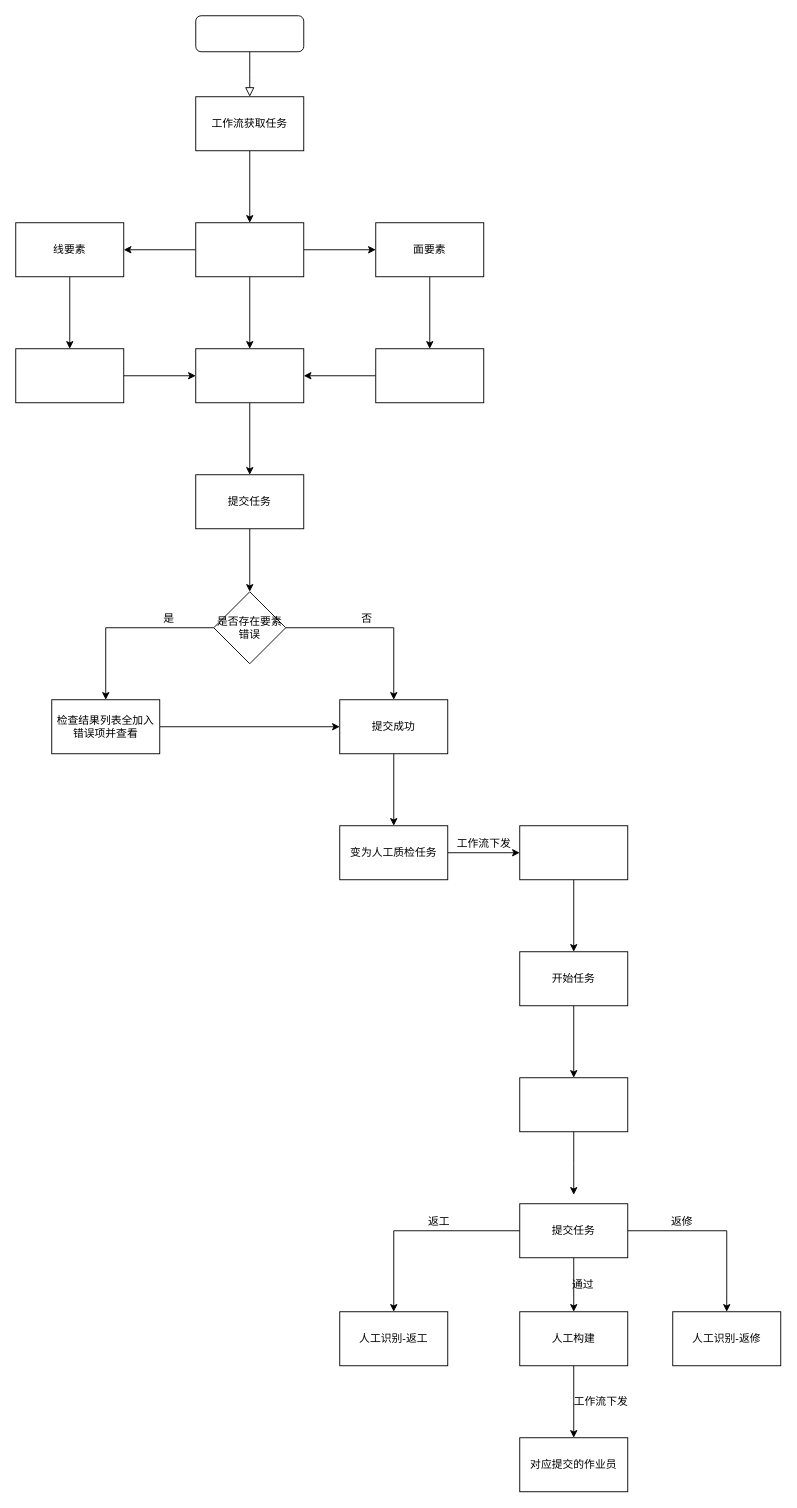
Some shapes in this 797 by 1508 pixel diagram are drawn without their labels. The shapes that lost their labels are listed below. From the top down, each one's centre as x and y in pixels, then its label:
At point (249, 33): "作业员登录账号".
At point (249, 249): "要素增删改".
At point (69, 375): "打断/合并/批量赋值/批量合并/齐打断/拉线打断/复制线要素/线要素逆序".
At point (249, 375): "删除/强制删除".
At point (429, 375): "位姿调整/新增删除/修改".
At point (573, 852): "质检员".
At point (573, 1104): "质检标注/标记图层新建/删除/修改".
